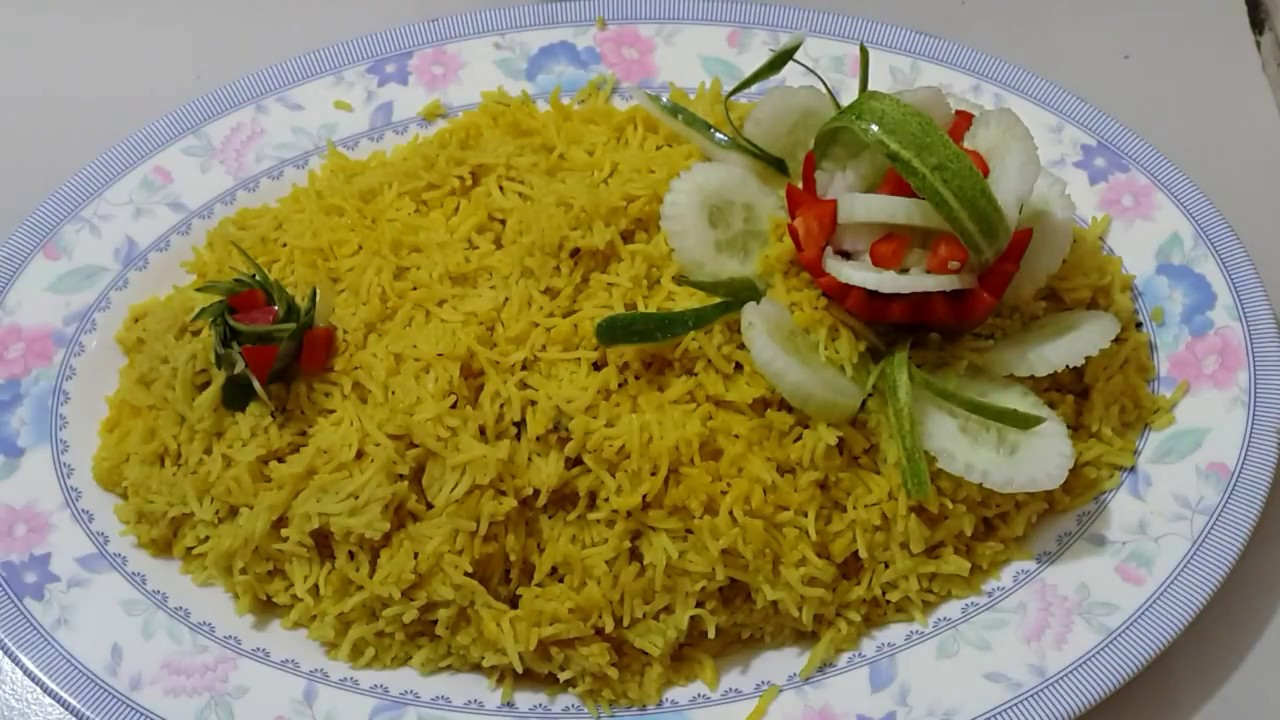khichuri: (126, 81, 1116, 616)
